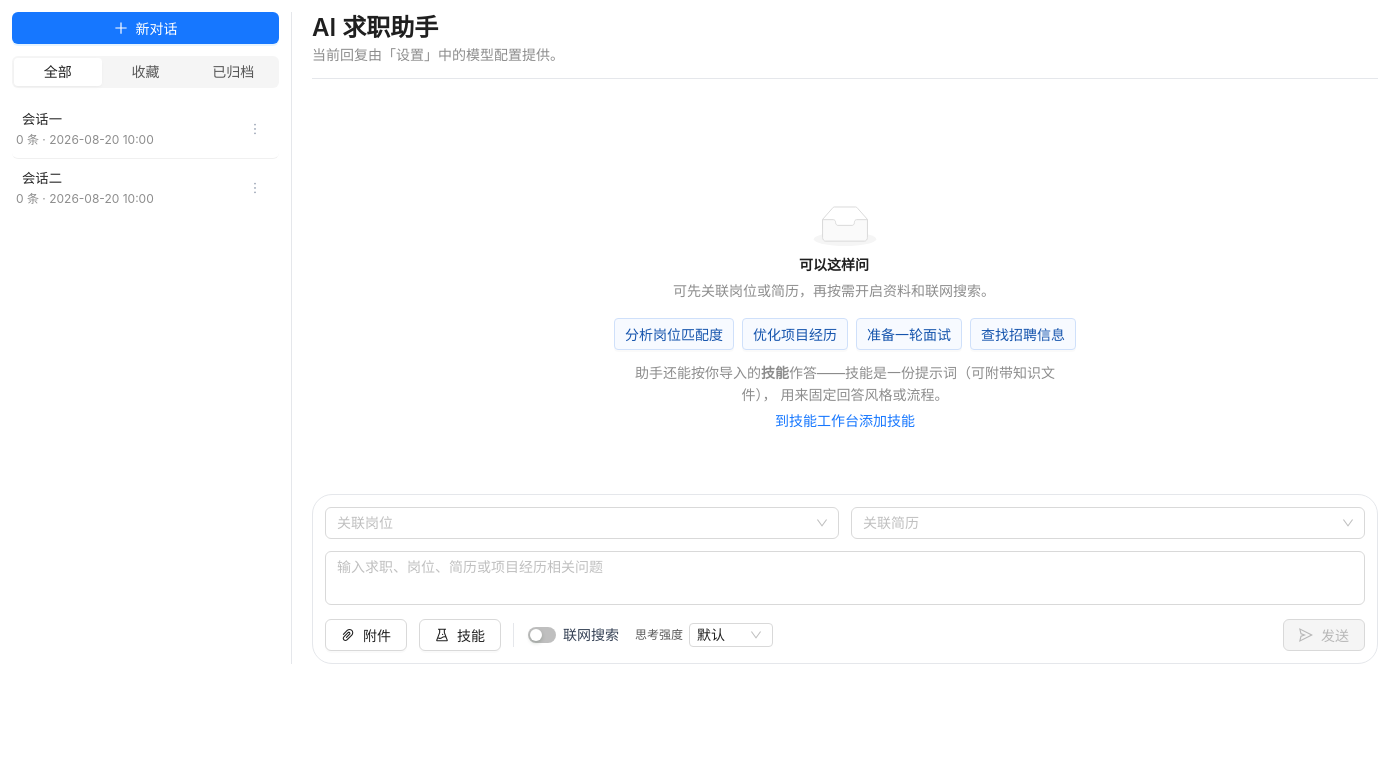
Test: AssistantPage › positions a loaded conversation at the latest message without smooth scrolling
What coordinates should you click on to do the following:
click the button "会话一"
I would click on:
 (85, 118)
Its box is [16,108,154,129].
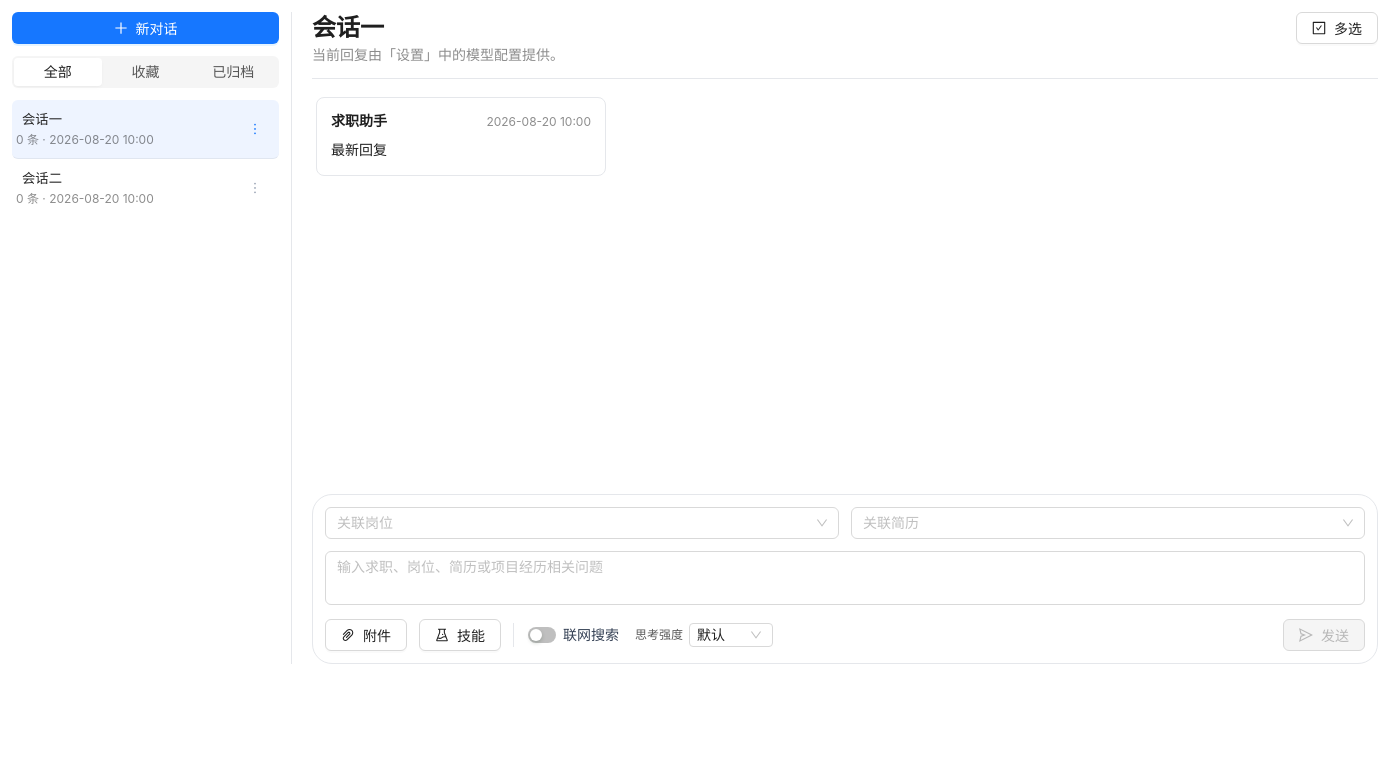
Expected: the text "最新回复" is shown, [331,141,387,158]
